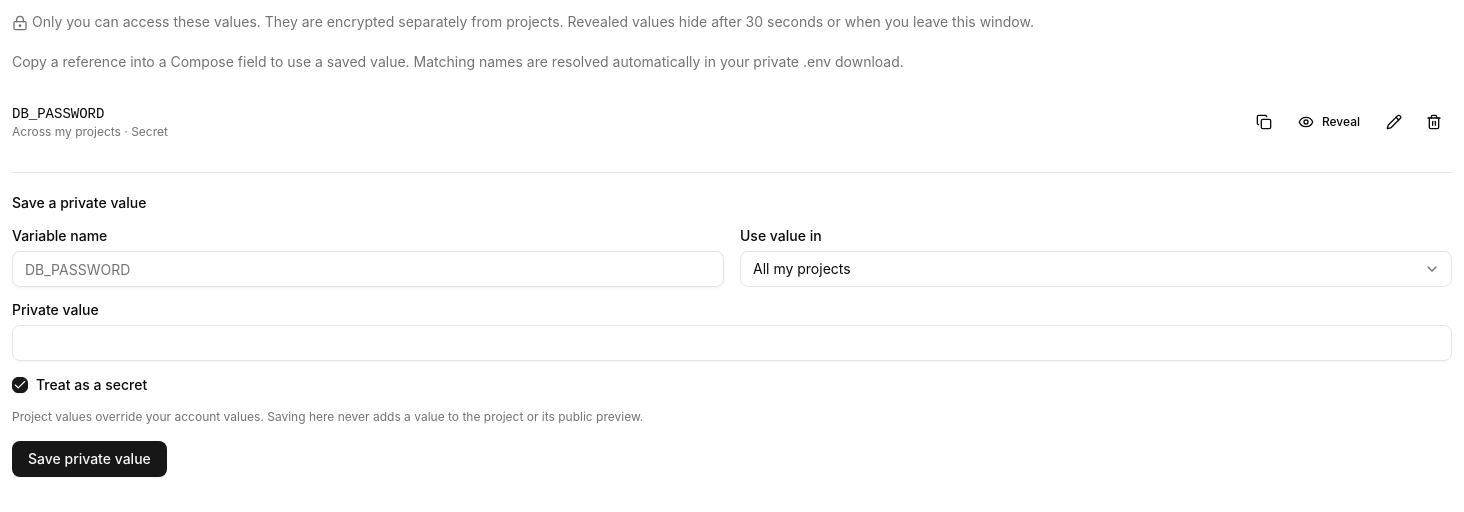
Test: scope conflicts keep the edit open and display the recovery message
Click the button named "Edit saved value DB_PASSWORD": (1394,122) [1376,104,1412,140]
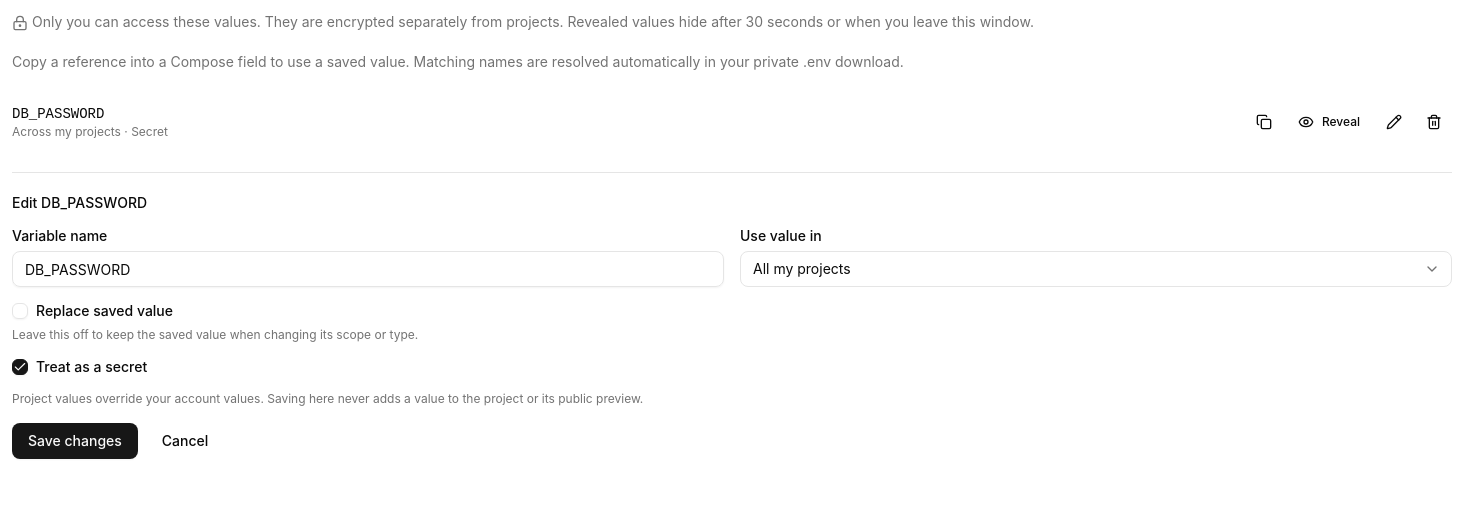
Select "This project only" in the dropdown labelled "Use value in": (1096,269) [740,251,1452,287]
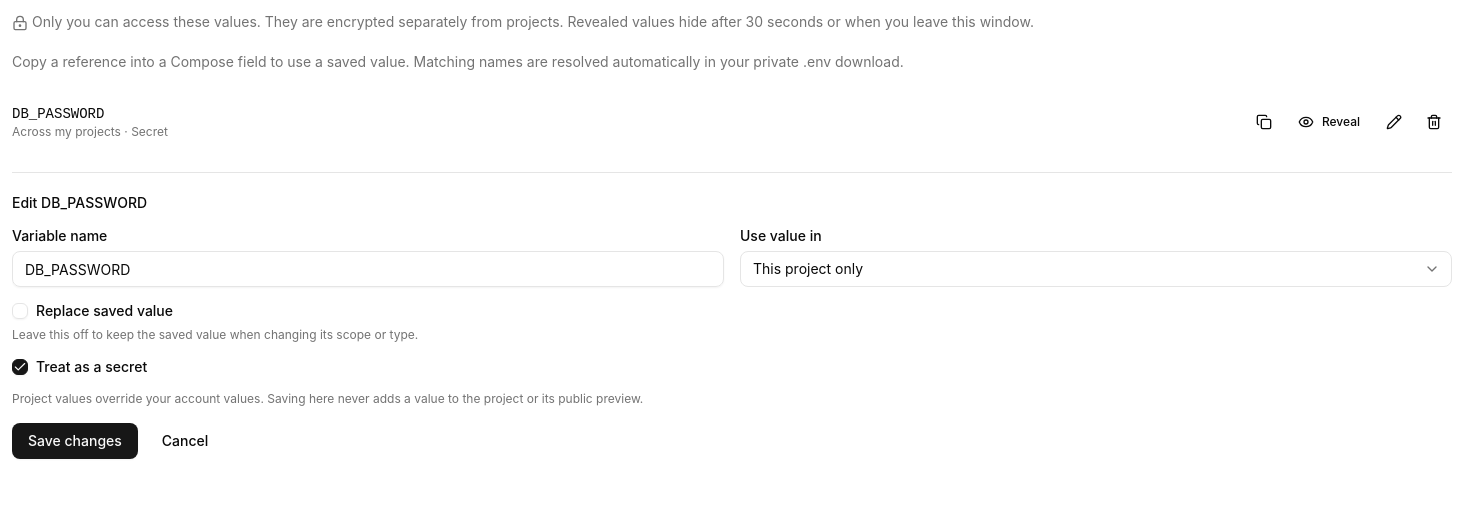
Click the button "Save changes": (75,441) [12,423,138,459]
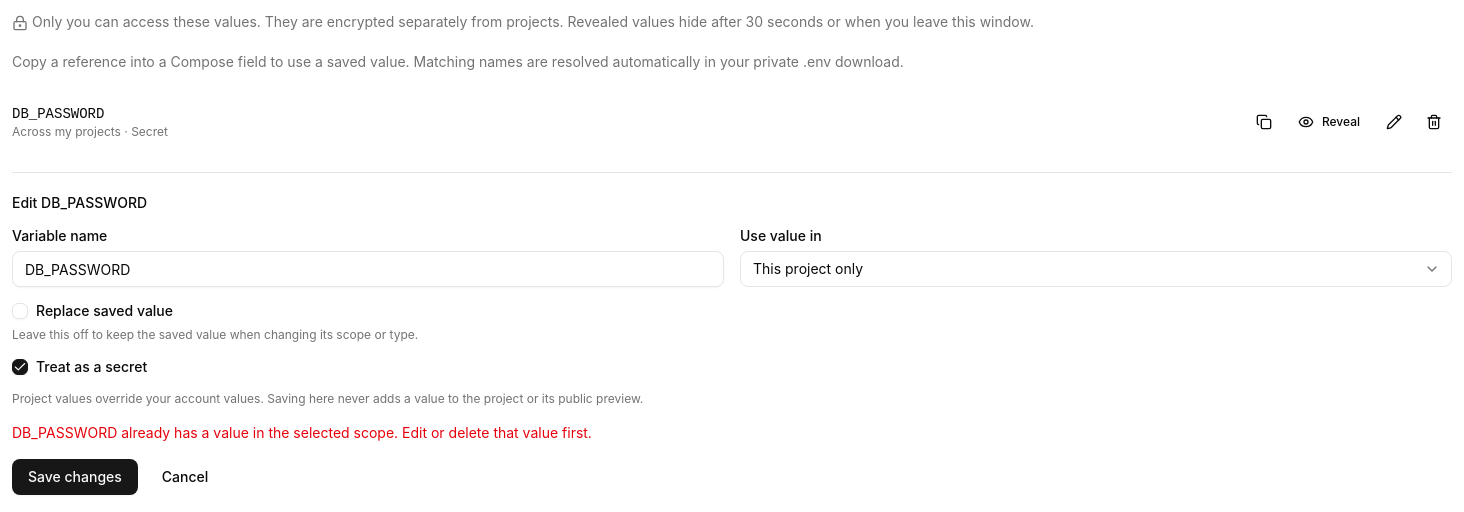
Result: the field labelled "Variable name" holds "DB_PASSWORD" at [12,251,724,287]
Result: the message shows "already has a value in the selected scope" at [12,424,592,441]
